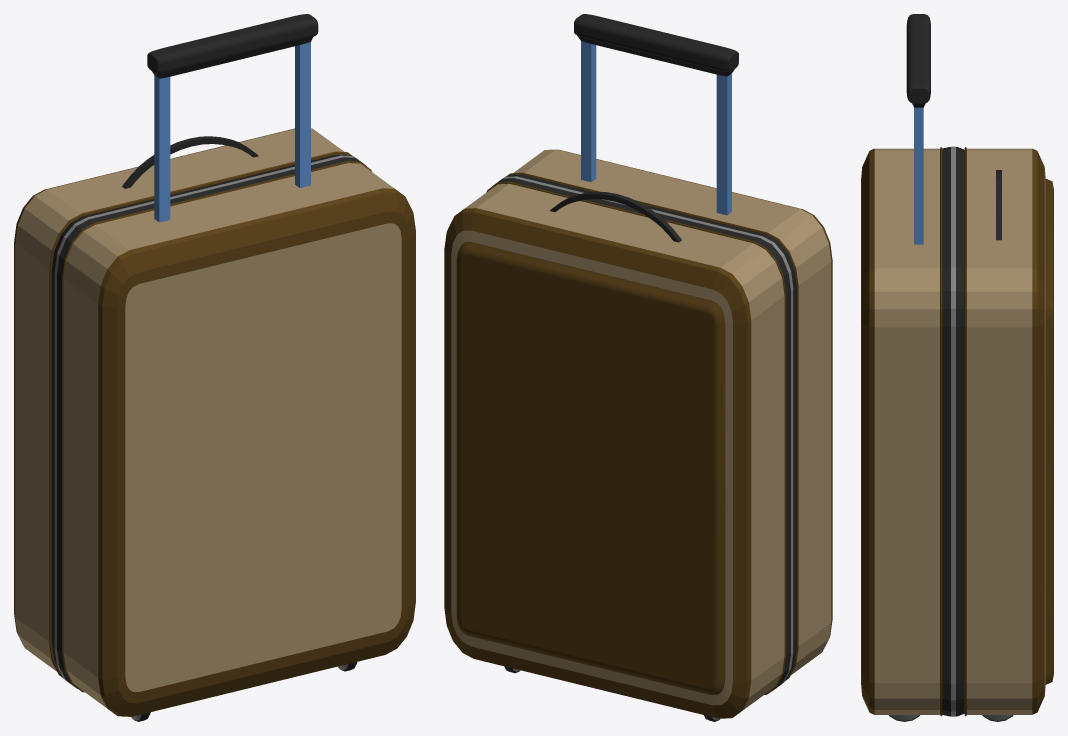
Rendered from Trolley.fbx.
3 renders of one model, left to right at view 1: azimuth 30°, elevation 25°; view 2: azimuth 150°, elevation 25°; view 3: azimuth 270°, elevation 25°, orthographic. The views are drawn at different scales.
Visible parts, largest first — view 1: Trolley; view 2: Trolley; view 3: Trolley.
Part boxes in pixels (box(x1,y1,x2,y2)): Trolley: box(14, 14, 415, 721); Trolley: box(444, 14, 832, 721); Trolley: box(861, 14, 1053, 721).
Size of the model in its own units: 6.14 by 12.06 by 3.38.
